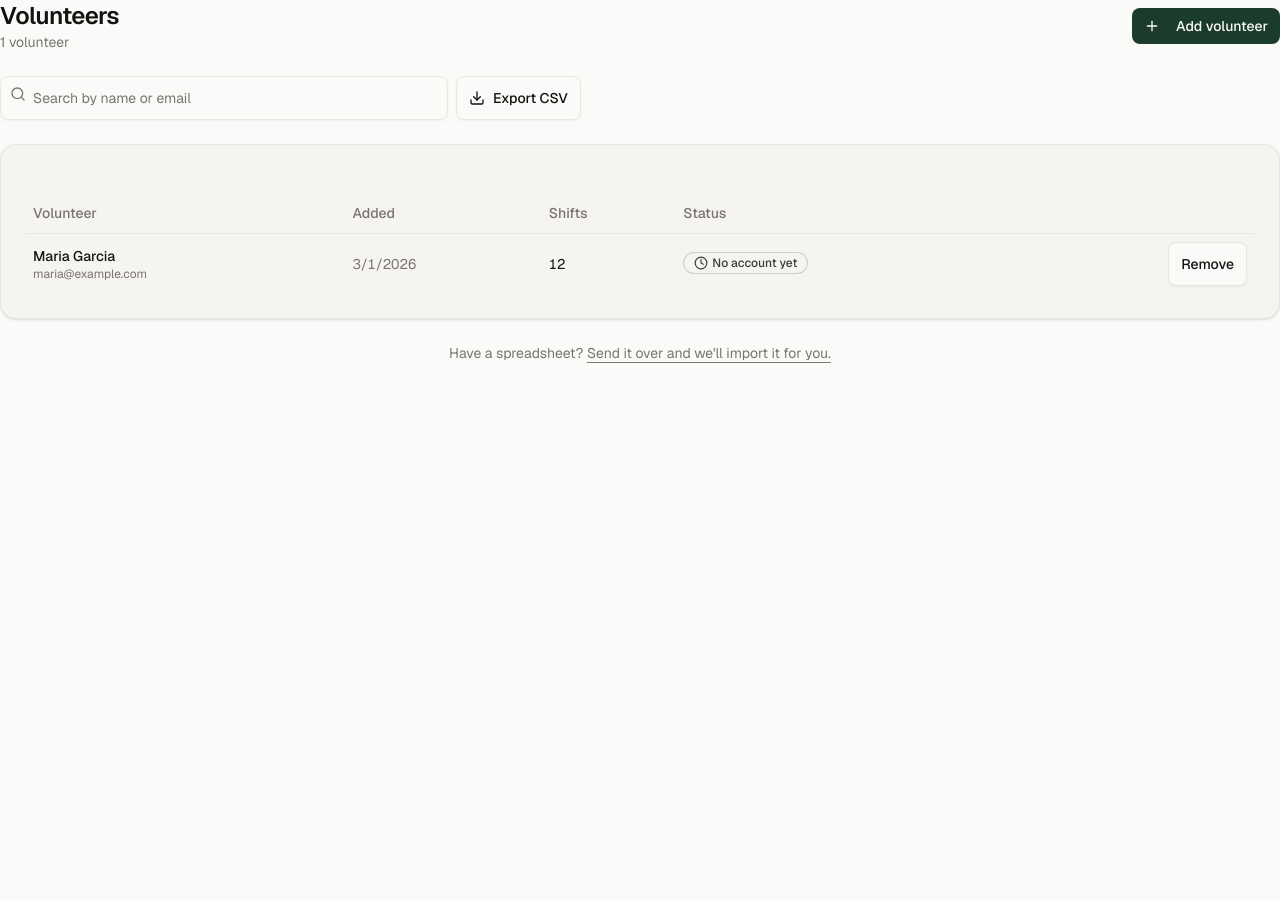
Scenario: VolunteersPage detail dialog (T27) › distinguishes an empty history from a failed load
Step 1. Click the button "Maria Garcia" → [74, 256], box [33,246,115,266]
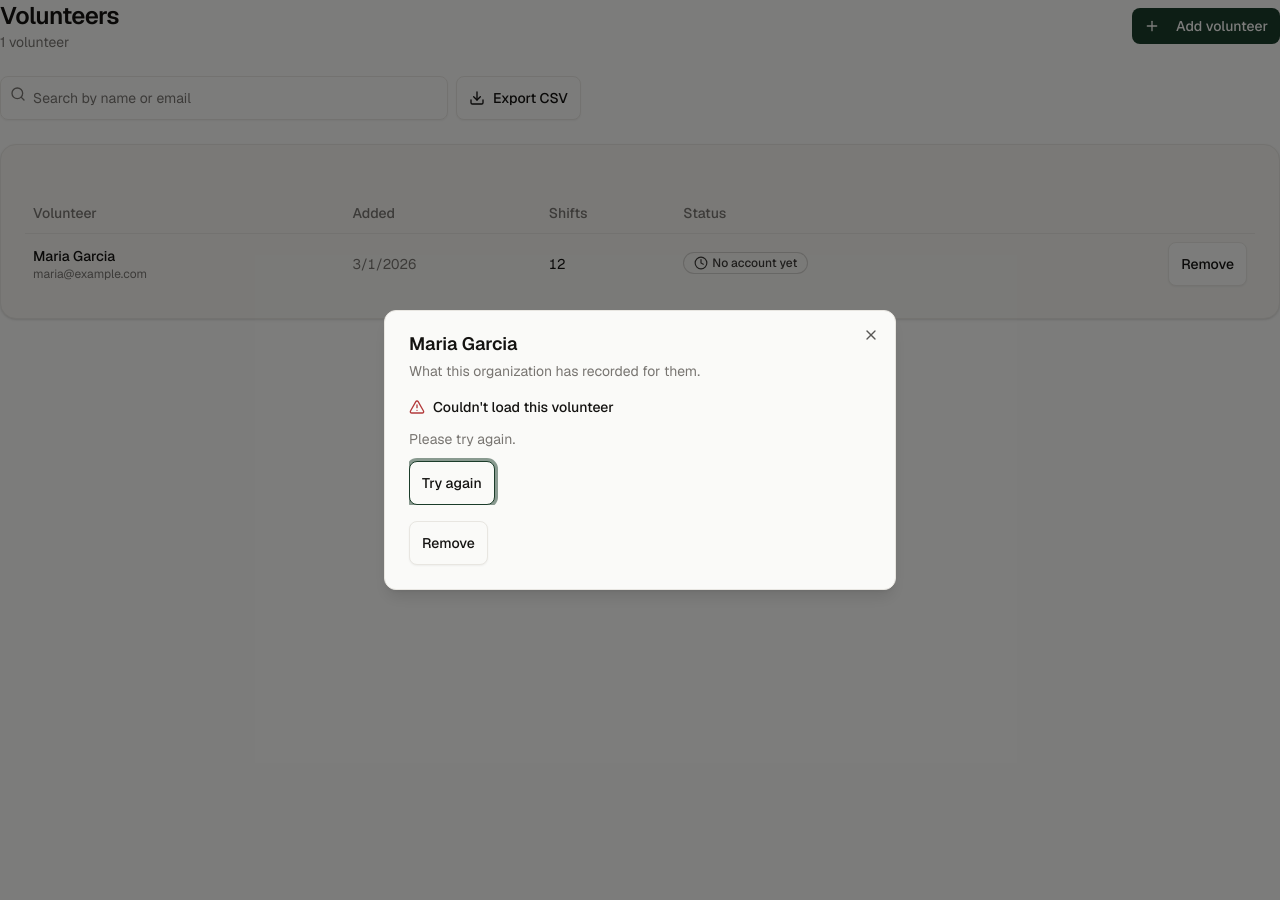
Now the text "Couldn't load this volunteer" is shown, box [409,398,614,416]
